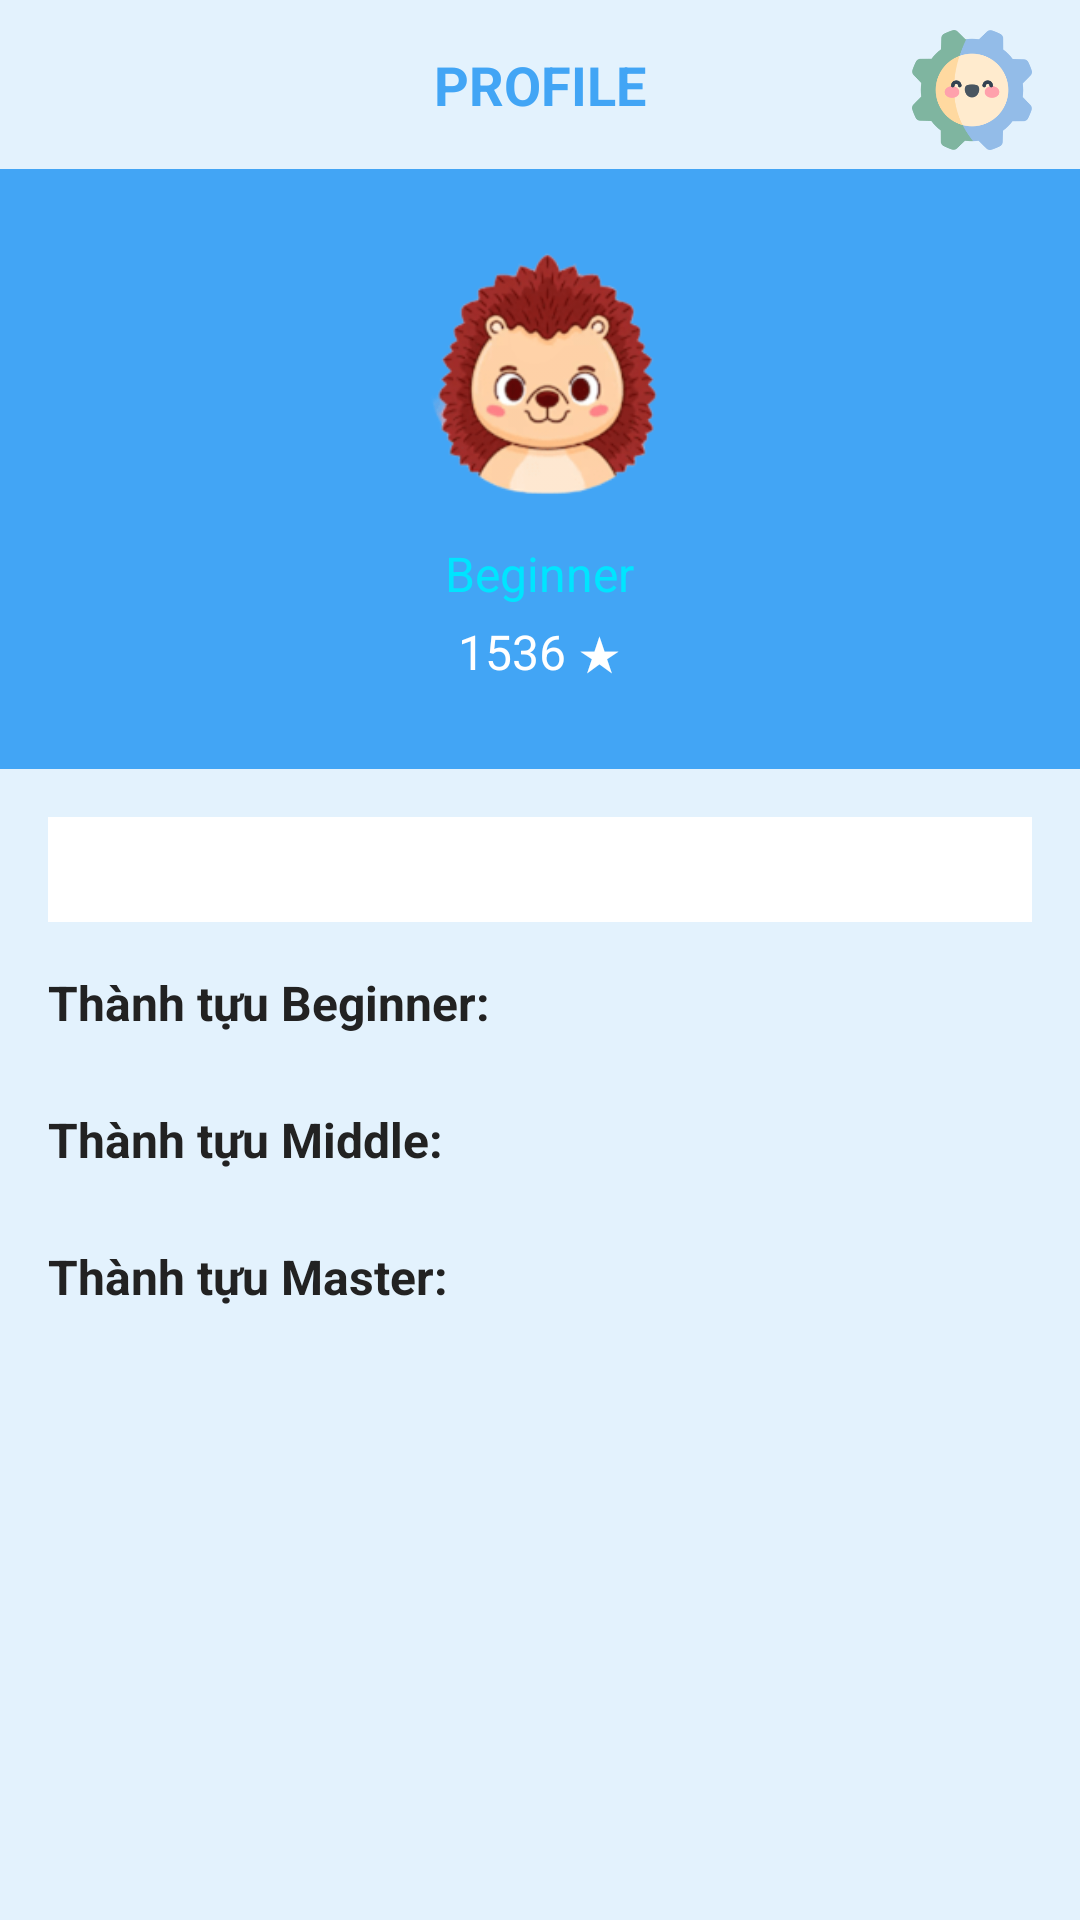

Screen size 1080 × 1920. Icon name, then its box in pixels as (x1, y1, x2, y2):
setting: (912, 30, 1032, 150)
